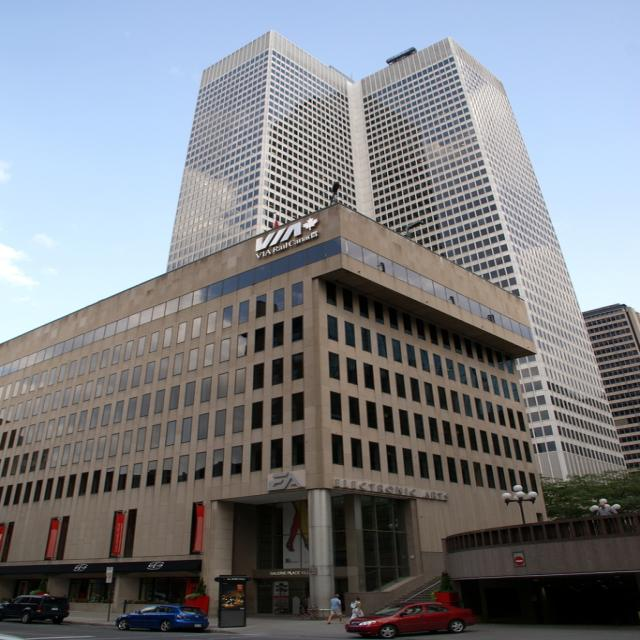car: (341, 596, 481, 639), (113, 597, 214, 634), (0, 591, 66, 621)
